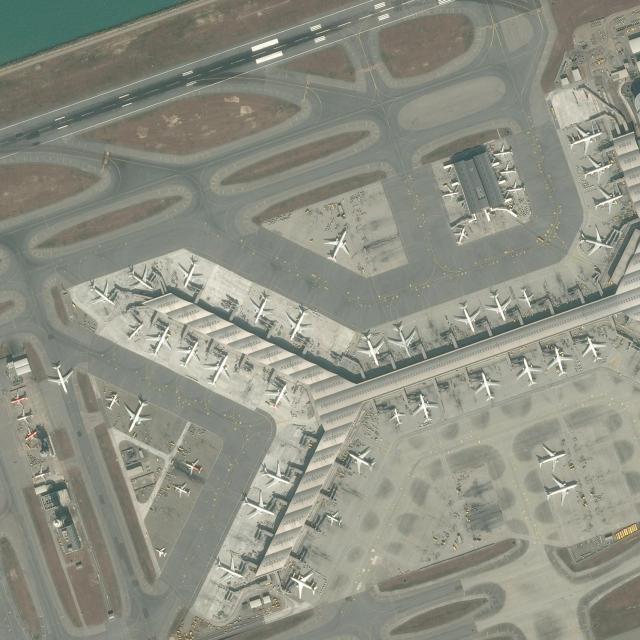aircraft: (576, 223, 614, 257), (386, 322, 419, 357), (567, 124, 605, 154), (122, 398, 152, 434), (354, 332, 384, 367), (543, 476, 579, 505), (240, 492, 277, 520), (591, 184, 625, 214), (44, 362, 75, 394), (410, 391, 440, 424), (205, 350, 231, 388), (579, 157, 615, 184), (512, 356, 542, 388), (145, 324, 173, 358), (323, 228, 351, 262), (472, 368, 500, 402), (286, 305, 312, 341), (260, 461, 292, 490), (545, 344, 574, 376), (536, 444, 568, 472), (213, 554, 245, 582), (248, 291, 274, 325), (85, 278, 115, 306), (452, 302, 480, 332), (346, 448, 376, 475), (581, 334, 608, 364), (485, 291, 511, 322), (178, 256, 202, 289), (290, 570, 318, 598), (264, 381, 290, 411), (177, 338, 202, 369), (127, 265, 154, 292), (122, 320, 144, 342), (491, 142, 515, 162), (517, 286, 536, 308), (452, 225, 470, 248), (183, 457, 204, 475), (498, 163, 520, 180), (505, 181, 528, 197), (388, 406, 404, 428), (324, 509, 342, 527), (440, 184, 459, 201), (33, 464, 50, 482), (104, 391, 118, 412), (10, 391, 28, 407), (16, 410, 34, 426), (22, 428, 40, 444), (174, 482, 192, 498), (154, 546, 169, 558)
